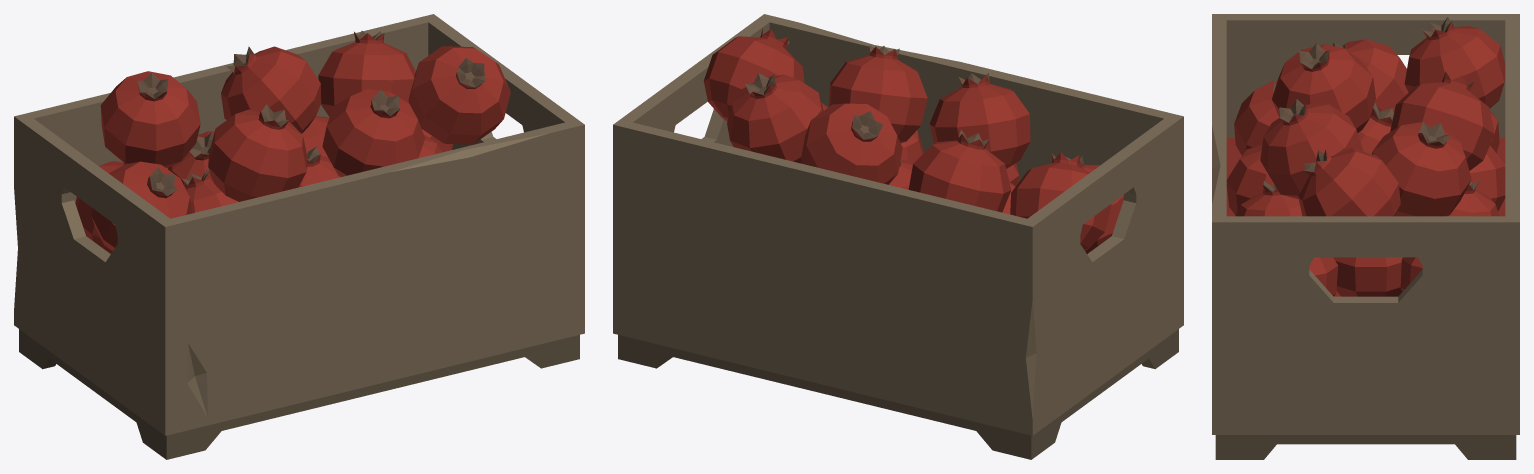
File: SM_Props_Farm_Crate_Filled_Pomegranate.fbx
3 renders of one model, left to right at view 1: azimuth 30°, elevation 25°; view 2: azimuth 150°, elevation 25°; view 3: azimuth 270°, elevation 25°, orthographic.
Parts seen in each view (by area): view 1: SM_Props_Farm_Crate_Filled_Pomegranate; view 2: SM_Props_Farm_Crate_Filled_Pomegranate; view 3: SM_Props_Farm_Crate_Filled_Pomegranate.
Part boxes in pixels (x1,y1,x2,y2): SM_Props_Farm_Crate_Filled_Pomegranate: [14, 14, 584, 459]; SM_Props_Farm_Crate_Filled_Pomegranate: [613, 14, 1183, 459]; SM_Props_Farm_Crate_Filled_Pomegranate: [1212, 14, 1519, 459].
Bounding box in the file's own units: 101 × 64.03 × 63.
